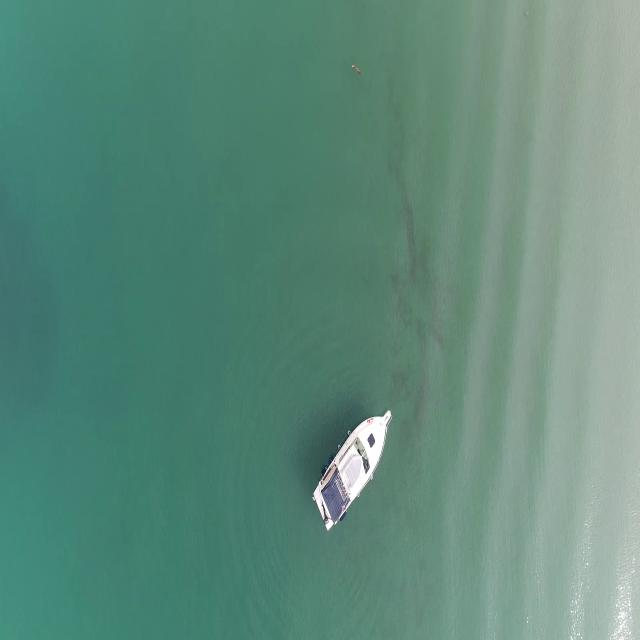boat: (314, 406, 391, 538)
wood: (351, 62, 363, 76)
